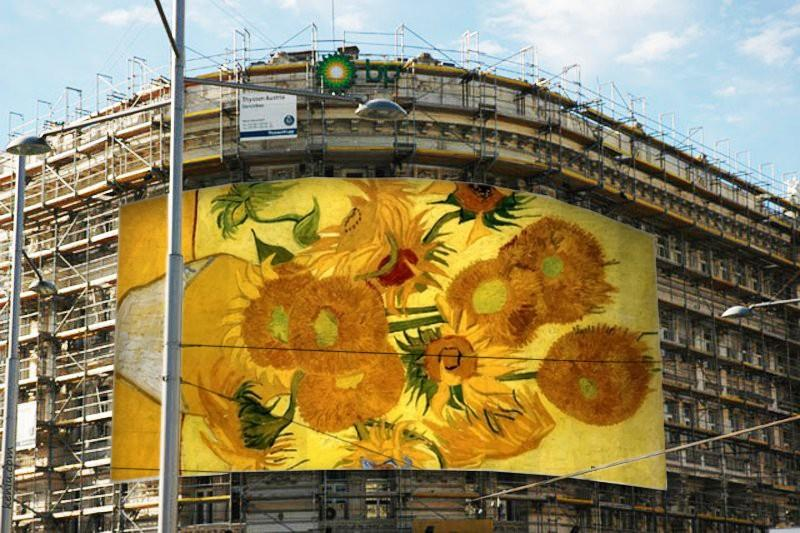Sunflower: (123, 189, 669, 489)
